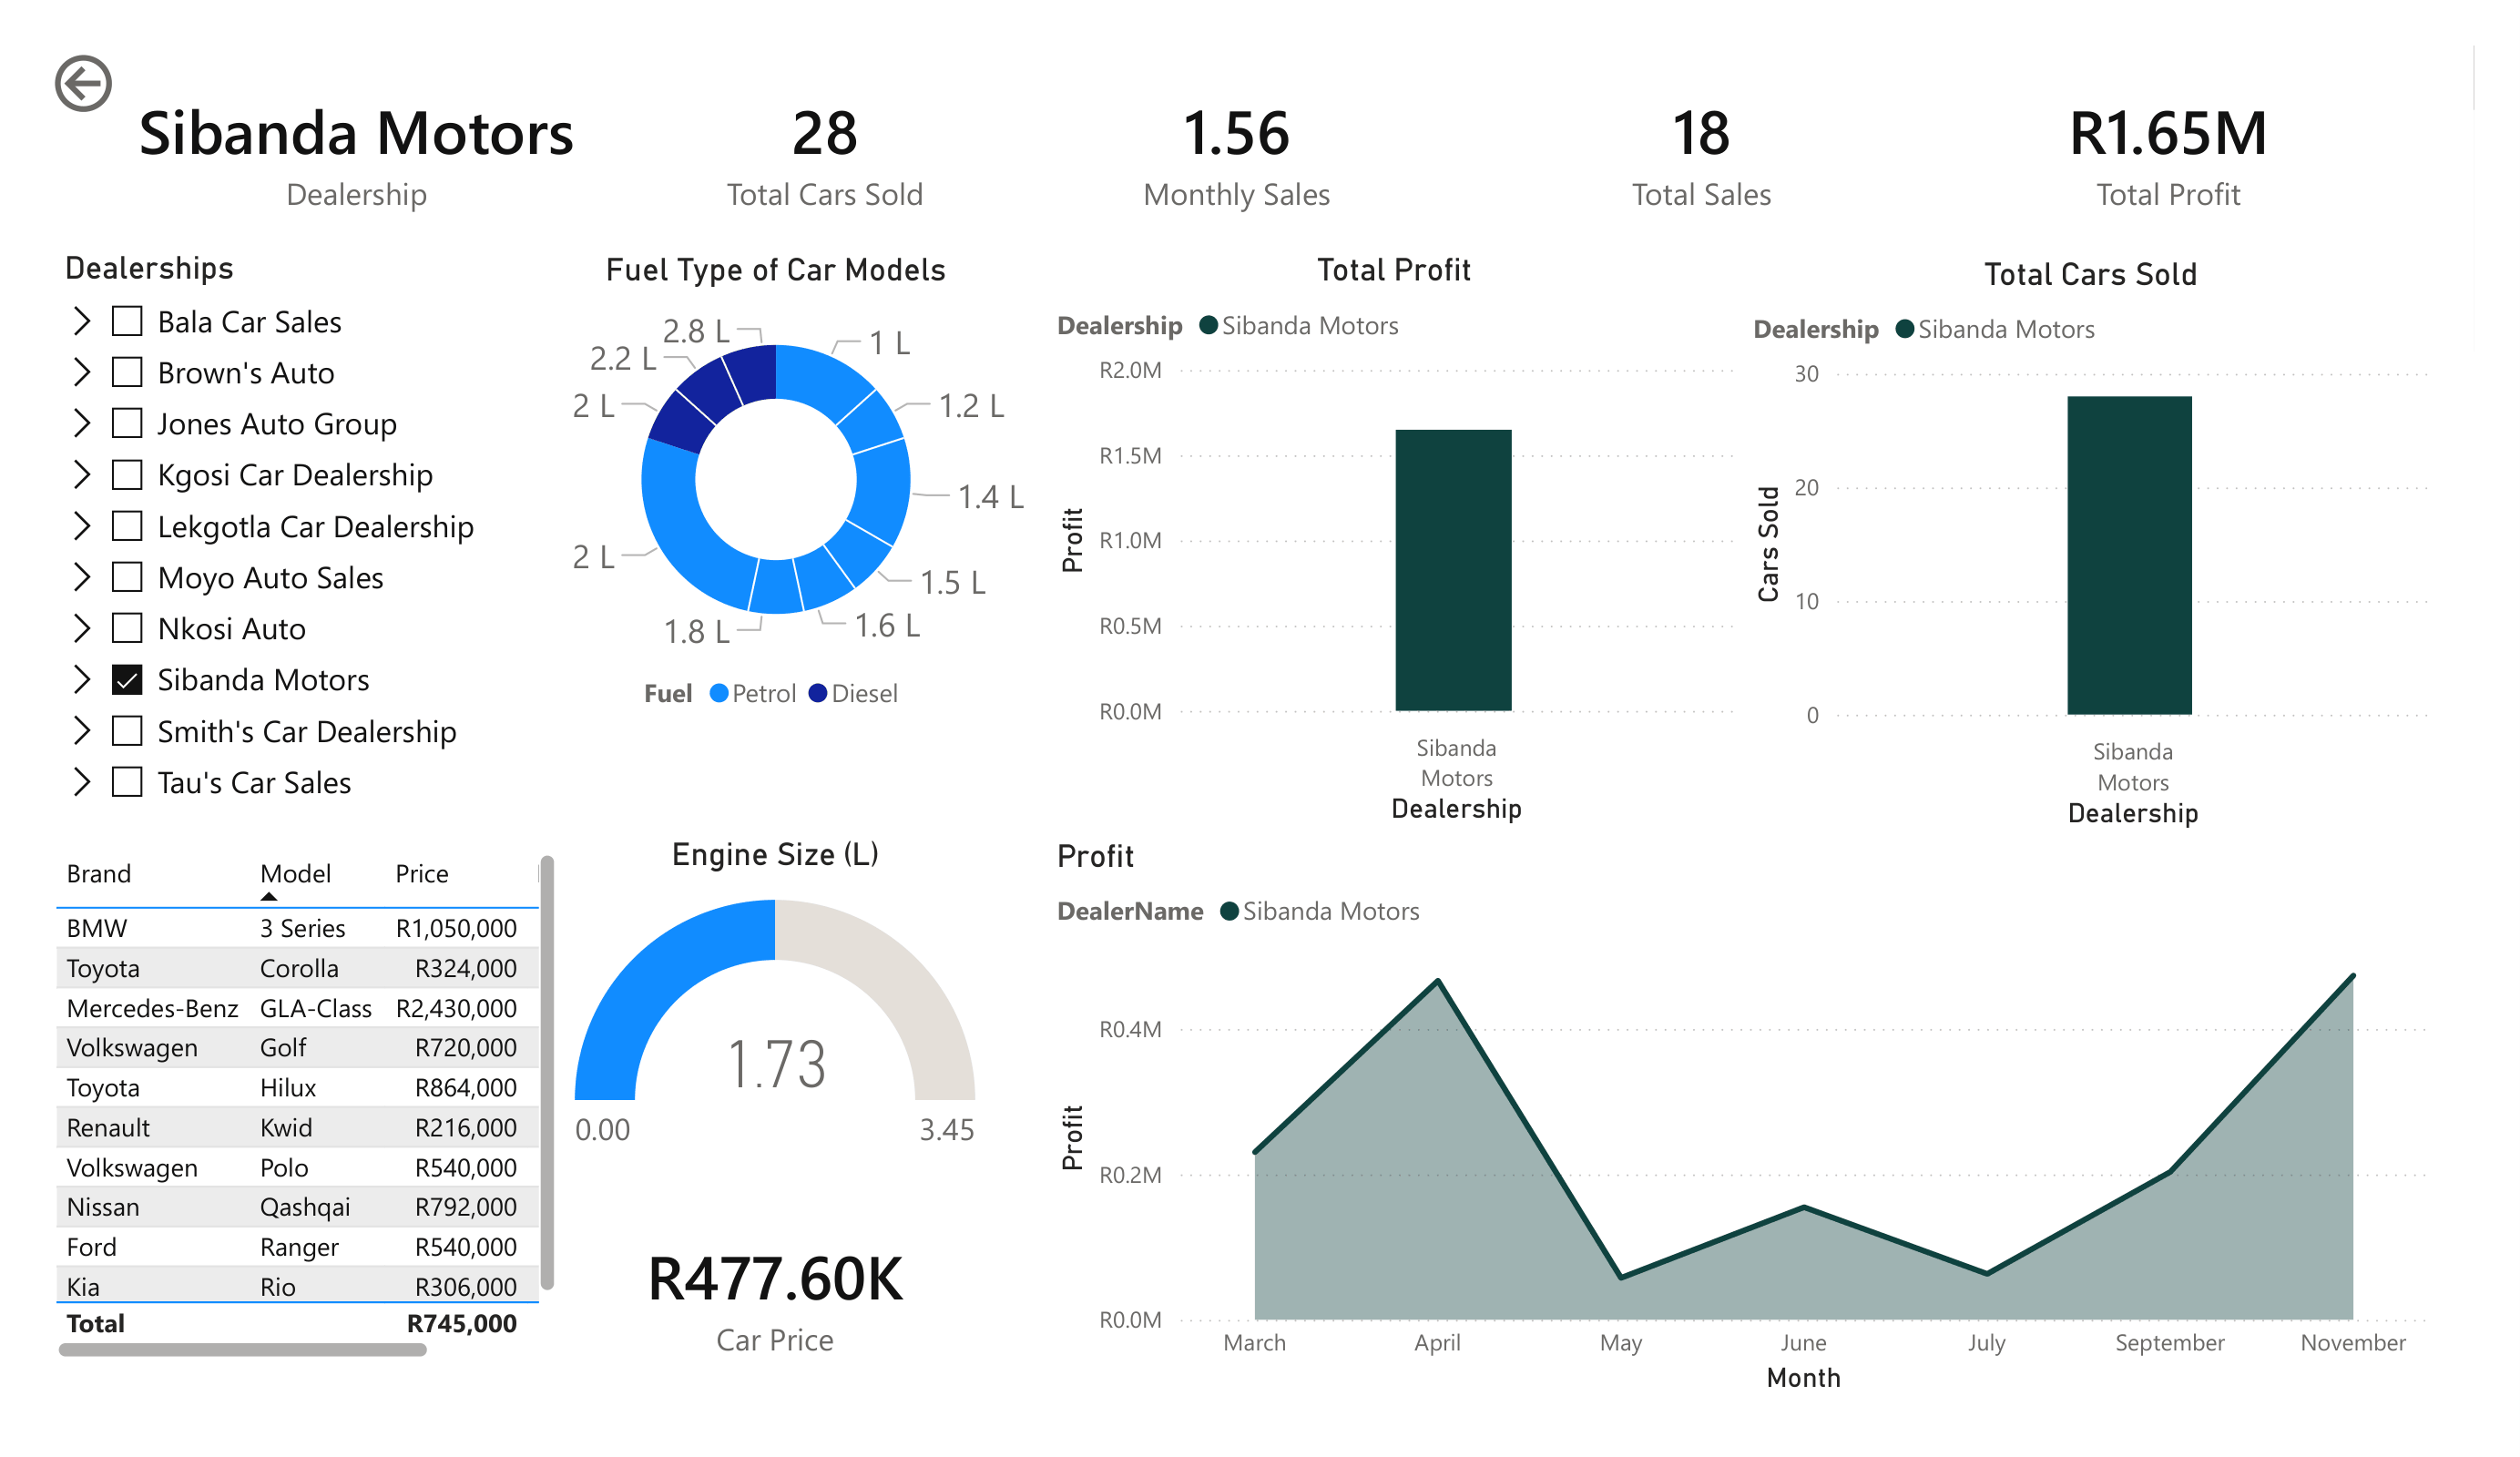

What the dashboard file says about the page in this screenshot:
{"tool":"powerbi","page":{"name":"Page 1","canvas":[1280,720],"ordinal":0},"visuals":[{"type":"cardVisual","fields":{"Data":["CountNonNull(Sales.Quantity)"]},"box":[801.4,0,144.1,109.8],"z":0},{"type":"cardVisual","fields":{"Data":["Sum(Sales.Quantity)"]},"box":[327.7,0,166.3,110.1],"z":1000},{"type":"cardVisual","fields":{"Data":["Sum(Sales.Total Profit (ZAR))"]},"box":[1012.7,0,212.7,109.8],"z":2000},{"type":"tableEx","fields":{"Values":["Models.Brand","Models.Model","Models.Price (ZAR)"]},"box":[9.6,362.3,262.1,355.4],"z":3000},{"type":"cardVisual","fields":{"Data":["Avg(Sales.Quantity)"]},"box":[548.9,0,157.8,109.8],"z":4000},{"type":"cardVisual","fields":{"Data":["Min(Dealers.DealerName)"]},"box":[23.2,0,265.4,110.1],"z":5000},{"type":"donutChart","title":"Fuel Type of Car Models","fields":{"Category":["Models.Fuel"],"Y":["CountNonNull(Models.Fuel)"],"Series":["Models.Engine Sizes (L)"]},"box":[242.1,107.6,286.1,251.9],"z":6000},{"type":"tableEx","fields":{"Values":["Dealers.DealerID","Dealers.DealerName"]},"box":[9.8,99,232.3,249.5],"z":7000},{"type":"gauge","fields":{"Y":["Avg(Models.EngineSize (L))"]},"box":[273.9,414.5,221.3,187.1],"z":8000},{"type":"columnChart","title":"Total Profit","fields":{"Category":["Dealers.DealerName","Sales.Date.Variation.Date Hierarchy.Month","Dealers.City","Models.Brand","Models.Model"],"Y":["Sum(Sales.Total Profit (ZAR))"],"Series":["Dealers.DealerName"]},"box":[528.3,107.6,365.6,306.9],"z":9000},{"type":"columnChart","title":"Total Cars Sold","fields":{"Category":["Dealers.DealerName","Dealers.City","Models.Segment","Models.Model"],"Y":["Sum(Sales.Quantity)"],"Series":["Dealers.DealerName"]},"box":[894.7,109.8,366.4,307.4],"z":10000},{"type":"actionButton","box":[0,0,100,40],"z":11000},{"type":"lineChart","title":"Monthly Profit (ZAR)","fields":{"Category":["Sales.Date.Variation.Date Hierarchy.Month","Dealers.Country","Dealers.City"],"Series":["Dealers.DealerName"],"Y":["Avg(Sales.Total Profit (ZAR))"]},"box":[528.3,417.2,731.4,303.3],"z":12000},{"type":"cardVisual","fields":{"Data":["Avg(Models.Price (ZAR))"]},"box":[271.5,584.5,216.4,135.7],"z":13000}]}

Visuals, with their boxes on the page's 1280x720 design canvas (x1, y1, x2, y2). These are canvas units, not pixel positions in the 2520x1457 screenshot, which may show the page scaled, cropped or inside an application window:
cardVisual - CountNonNull(Sales.Quantity): detection(801, 0, 946, 110)
cardVisual - Sum(Sales.Quantity): detection(328, 0, 494, 110)
cardVisual - Sum(Sales.Total Profit (ZAR)): detection(1013, 0, 1225, 110)
tableEx - Models.Brand x Models.Model: detection(10, 362, 272, 718)
cardVisual - Avg(Sales.Quantity): detection(549, 0, 707, 110)
cardVisual - Min(Dealers.DealerName): detection(23, 0, 289, 110)
"Fuel Type of Car Models" donutChart: detection(242, 108, 528, 360)
tableEx - Dealers.DealerID x Dealers.DealerName: detection(10, 99, 242, 348)
gauge - Avg(Models.EngineSize (L)): detection(274, 414, 495, 602)
"Total Profit" columnChart: detection(528, 108, 894, 414)
"Total Cars Sold" columnChart: detection(895, 110, 1261, 417)
actionButton: detection(0, 0, 100, 40)
"Monthly Profit (ZAR)" lineChart: detection(528, 417, 1260, 720)
cardVisual - Avg(Models.Price (ZAR)): detection(272, 584, 488, 720)
